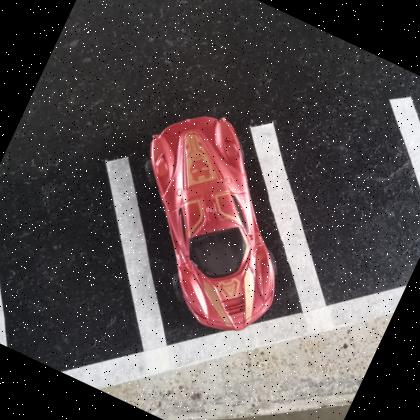Car: (149, 117, 275, 333)
